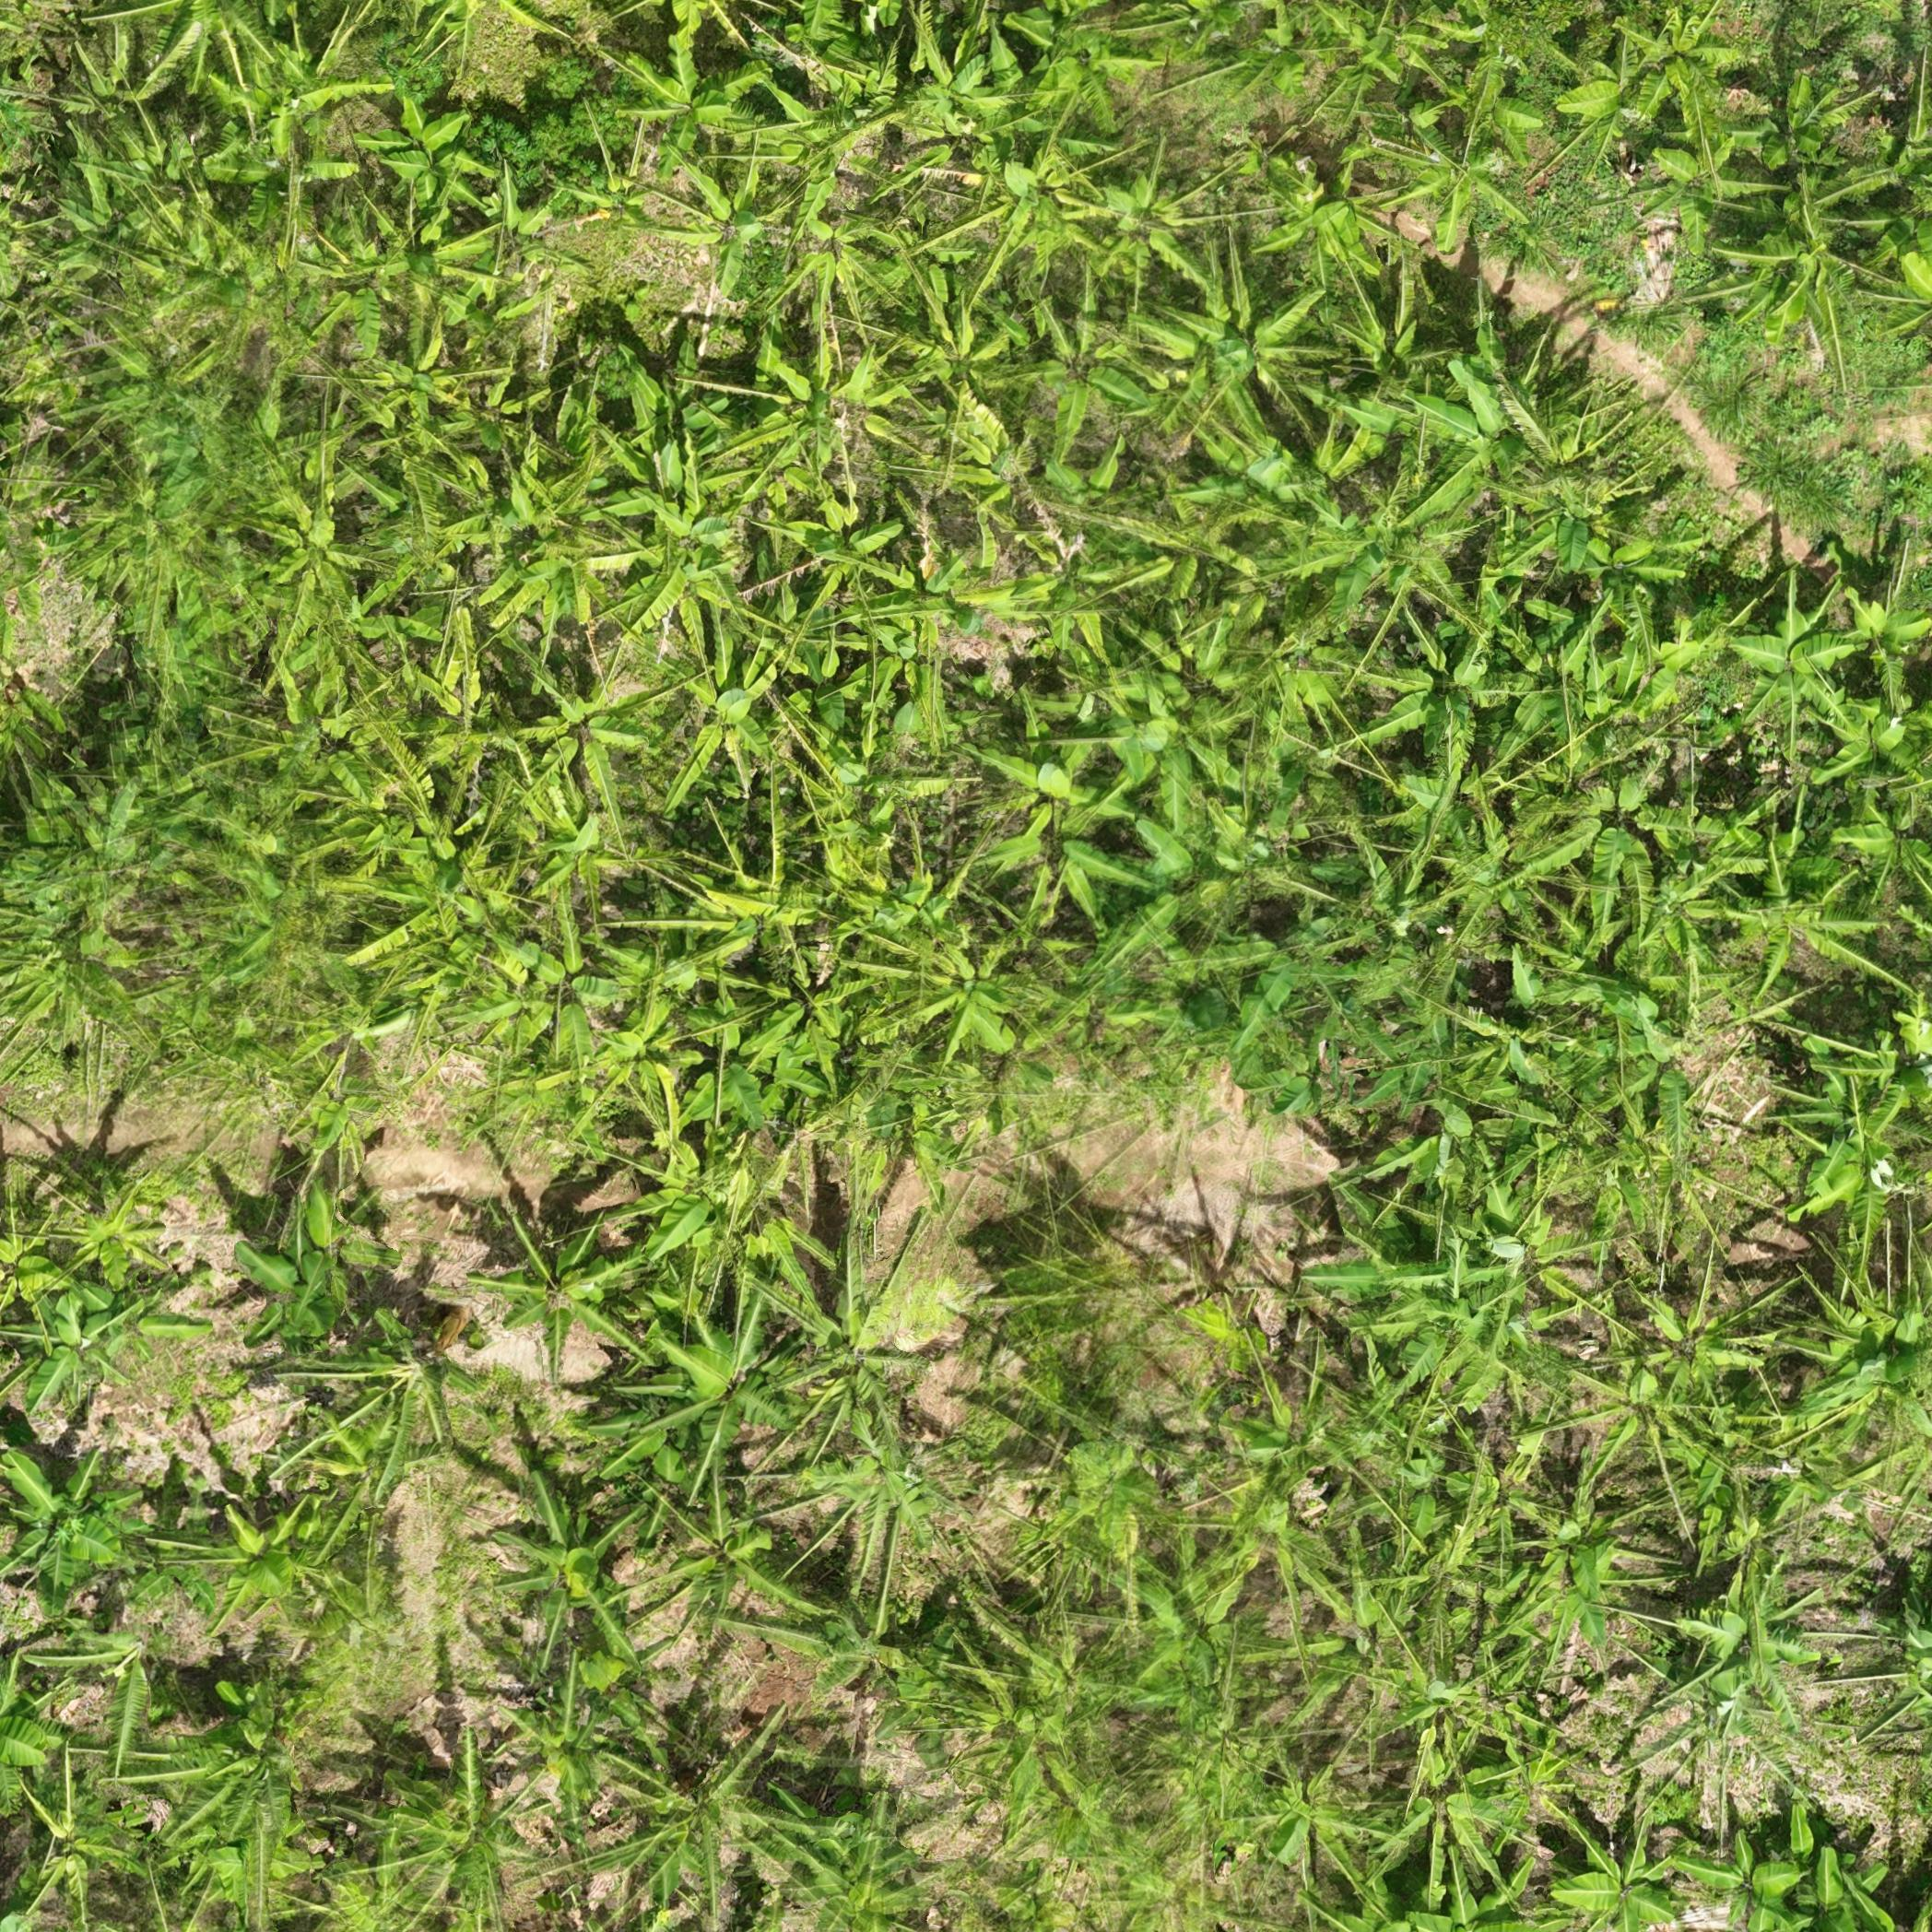Banana: (791, 1269, 932, 1440), (1794, 1270, 1930, 1430), (660, 625, 794, 782), (1005, 301, 1139, 433), (1589, 1099, 1723, 1226), (1292, 1576, 1419, 1707), (612, 39, 741, 166), (761, 198, 892, 324), (1465, 1198, 1592, 1325), (694, 849, 819, 977), (502, 1513, 635, 1633), (267, 663, 384, 800), (642, 1753, 768, 1879), (1651, 1656, 1780, 1778), (1387, 115, 1518, 235), (987, 789, 1118, 909), (1313, 497, 1445, 616), (964, 133, 1099, 249), (5, 1785, 133, 1907), (1376, 1642, 1504, 1764), (1721, 865, 1849, 987), (1008, 12, 1150, 122), (1129, 1573, 1253, 1695), (959, 1679, 1086, 1798), (283, 566, 402, 694), (4, 1463, 122, 1589), (281, 214, 398, 341), (667, 1336, 789, 1456), (1086, 159, 1212, 276), (832, 1415, 947, 1543), (4, 927, 131, 1042), (1583, 1348, 1700, 1472), (1254, 152, 1378, 269), (1238, 600, 1366, 713), (1444, 821, 1566, 938), (1330, 294, 1445, 416), (534, 665, 637, 801), (1373, 637, 1500, 747), (612, 481, 743, 587), (157, 1796, 290, 1900), (899, 297, 1010, 421), (1736, 609, 1851, 727), (497, 1242, 617, 1355), (948, 400, 1053, 529), (1210, 911, 1329, 1024), (1442, 991, 1566, 1099), (674, 175, 791, 288), (793, 1598, 911, 1709), (855, 550, 987, 649), (1210, 1479, 1323, 1592), (584, 1007, 697, 1120), (1564, 771, 1674, 888), (495, 929, 612, 1039), (356, 1323, 471, 1433), (453, 179, 571, 285), (62, 41, 168, 159), (182, 1702, 303, 1806), (1191, 295, 1302, 407), (1746, 219, 1861, 327), (1495, 628, 1601, 745), (844, 1081, 962, 1185), (1697, 1578, 1794, 1704), (1396, 1755, 1502, 1870), (414, 1785, 525, 1893), (195, 1507, 308, 1614), (1054, 1442, 1168, 1548), (1813, 577, 1927, 683), (1138, 628, 1251, 734), (750, 352, 870, 451), (1619, 849, 1729, 957), (366, 200, 471, 313), (1550, 41, 1651, 157), (1513, 1541, 1619, 1651), (226, 39, 340, 142), (212, 134, 327, 235), (918, 938, 1024, 1044), (237, 1244, 347, 1346), (1523, 1495, 1637, 1594), (1005, 531, 1123, 625), (71, 1617, 177, 1721), (1640, 1292, 1744, 1398), (518, 809, 628, 909), (363, 331, 467, 435), (1398, 1081, 1506, 1182), (814, 717, 913, 826), (257, 494, 356, 600), (1426, 387, 1534, 485), (1449, 1435, 1541, 1548), (520, 1700, 619, 1805), (1520, 1081, 1619, 1185), (679, 1506, 771, 1615), (669, 1016, 775, 1109), (1251, 1775, 1353, 1870), (1568, 1838, 1674, 1930), (1817, 701, 1920, 794), (893, 41, 996, 134), (16, 1304, 120, 1396), (271, 1189, 372, 1283), (796, 1845, 909, 1928), (1642, 138, 1739, 234), (752, 955, 851, 1049), (64, 1192, 161, 1284), (1520, 414, 1617, 501), (1185, 1293, 1277, 1384), (1633, 21, 1725, 111), (476, 1049, 571, 1136), (653, 1148, 738, 1246), (1693, 1840, 1790, 1925), (851, 609, 941, 699), (85, 1293, 186, 1373), (1235, 1391, 1323, 1481), (1578, 527, 1667, 617), (796, 510, 888, 596), (1744, 90, 1835, 173), (55, 195, 147, 276), (773, 642, 858, 727), (1240, 14, 1327, 97), (1525, 474, 1608, 557), (1847, 800, 1930, 881), (1490, 1746, 1576, 1824), (400, 138, 481, 209), (303, 1076, 375, 1152), (373, 104, 446, 166)
